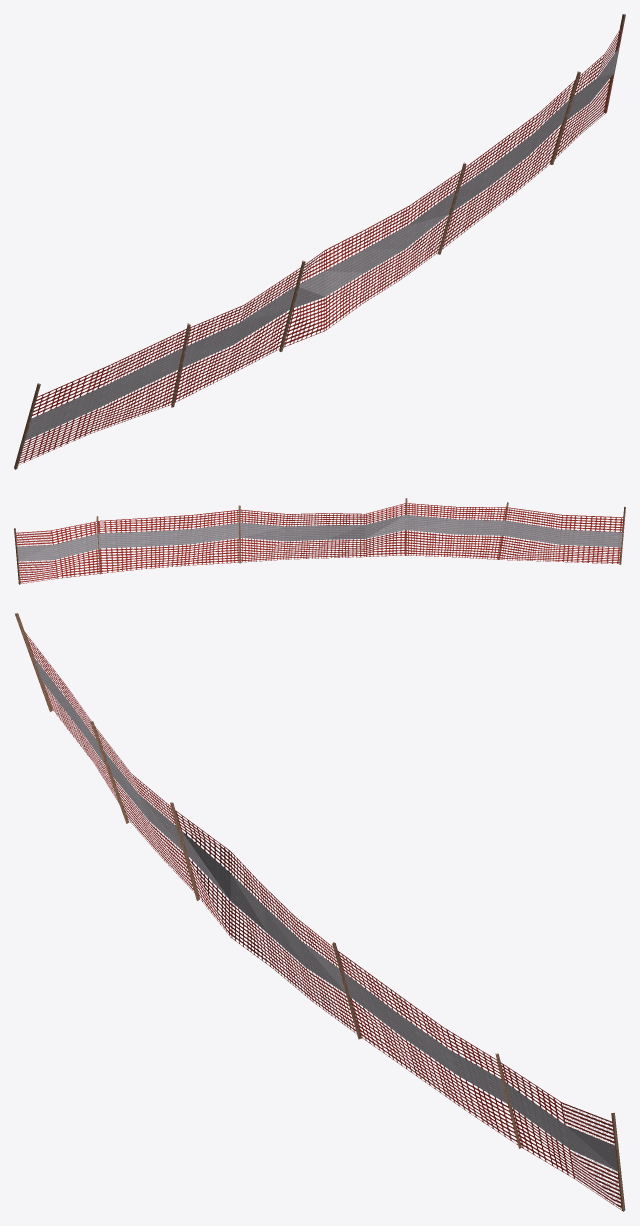
The model's file is mtbfence39.obj.
3 renders of one model, top to bottom at view 1: azimuth 30°, elevation 25°; view 2: azimuth 150°, elevation 25°; view 3: azimuth 270°, elevation 25°, orthographic. The views are drawn at different scales.
Visible parts, largest first — view 1: mtbfence39; view 2: mtbfence39; view 3: mtbfence39.
Boxes of the visible parts, x1,y1,x2,y2 form: mtbfence39: (14,14,625,469); mtbfence39: (14,498,625,584); mtbfence39: (15,613,625,1211).
Size of the model in its own units: 21.56 by 3.43 by 12.23.
Materials: 3 (3 with a texture image).
